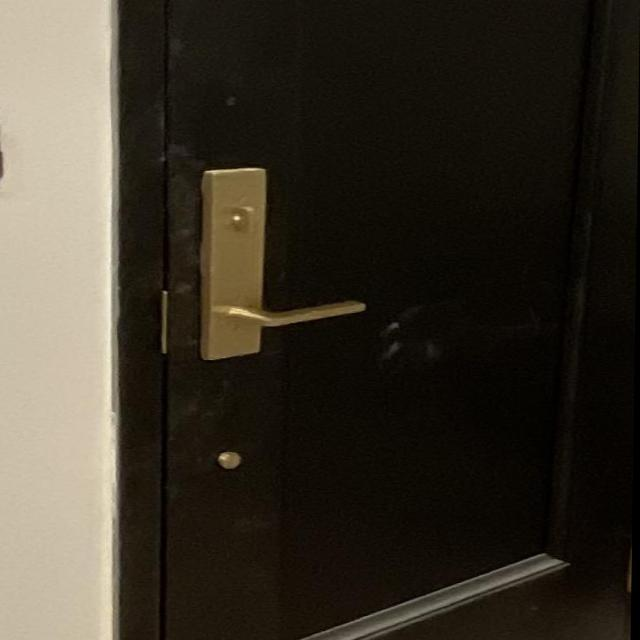door_handle: (189, 279, 383, 360)
